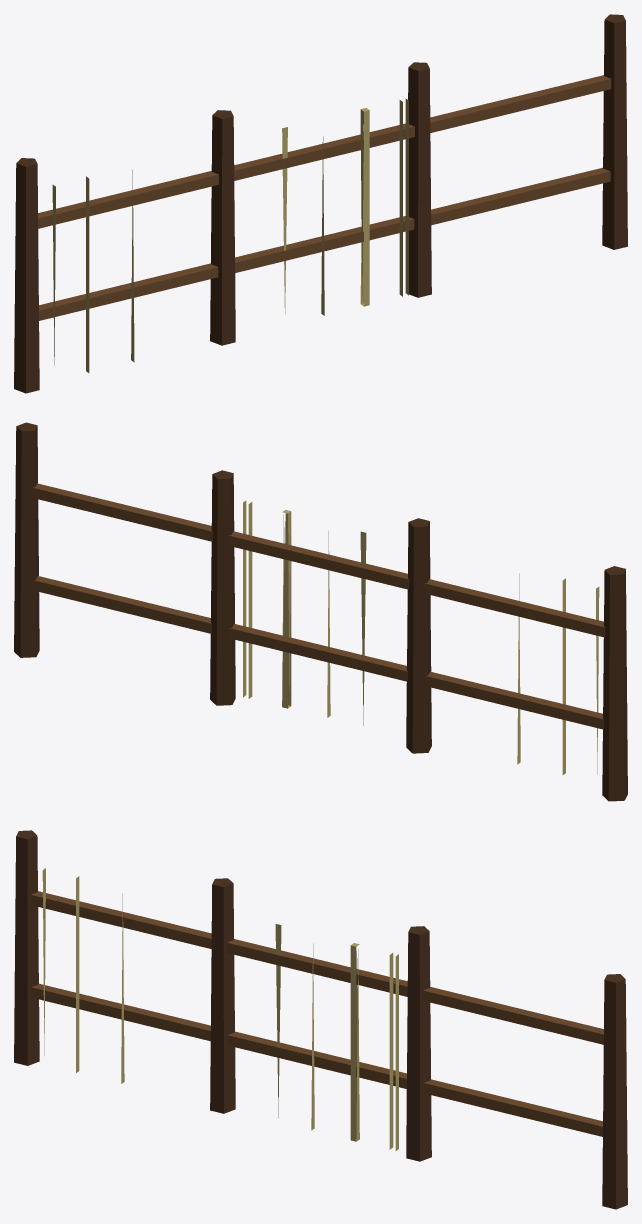
Rendered from prop_fence_lod1.glb.
3 renders of one model, top to bottom at view 1: azimuth 30°, elevation 25°; view 2: azimuth 150°, elevation 25°; view 3: azimuth 330°, elevation 25°, orthographic.
Visible parts, largest first — view 1: prop_fence_lod1; view 2: prop_fence_lod1; view 3: prop_fence_lod1.
Boxes of the visible parts, x1,y1,x2,y2 form: prop_fence_lod1: (14,14,627,393); prop_fence_lod1: (14,422,627,801); prop_fence_lod1: (14,830,627,1209).
Size of the model in its own units: 3.11 by 1.1 by 0.115.
